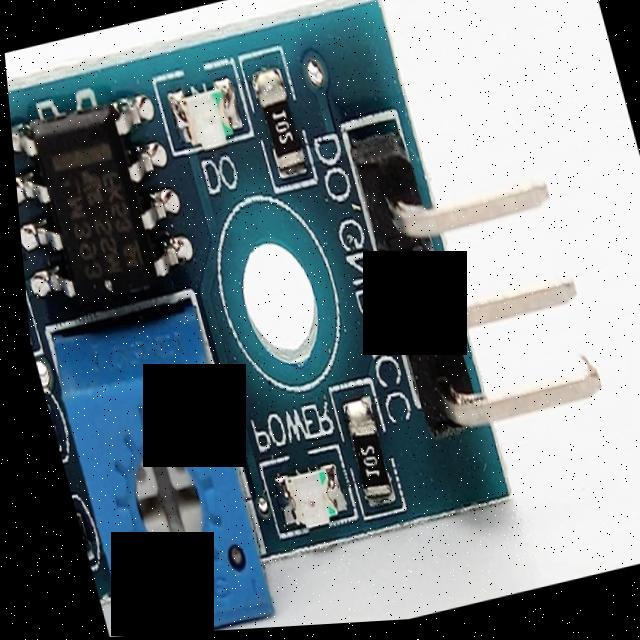IC: (6, 81, 175, 315)
LED: (265, 466, 335, 540), (171, 85, 240, 156)
connector -5v-: (348, 110, 613, 455)
potentiometer POT1: (38, 299, 267, 639)
resistor IR1: (327, 407, 390, 516), (251, 76, 303, 172)
